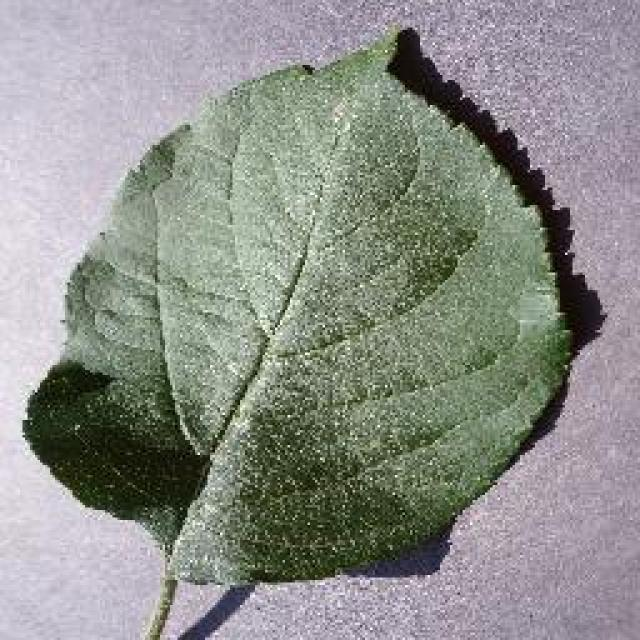Apple___Cedar_apple_rust: (20, 25, 576, 587)
